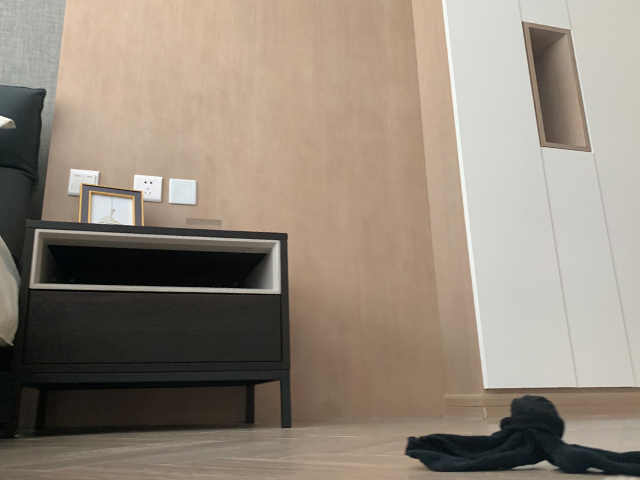cabinet: (412, 1, 640, 420), (1, 218, 294, 440)
socks: (405, 393, 640, 479)
